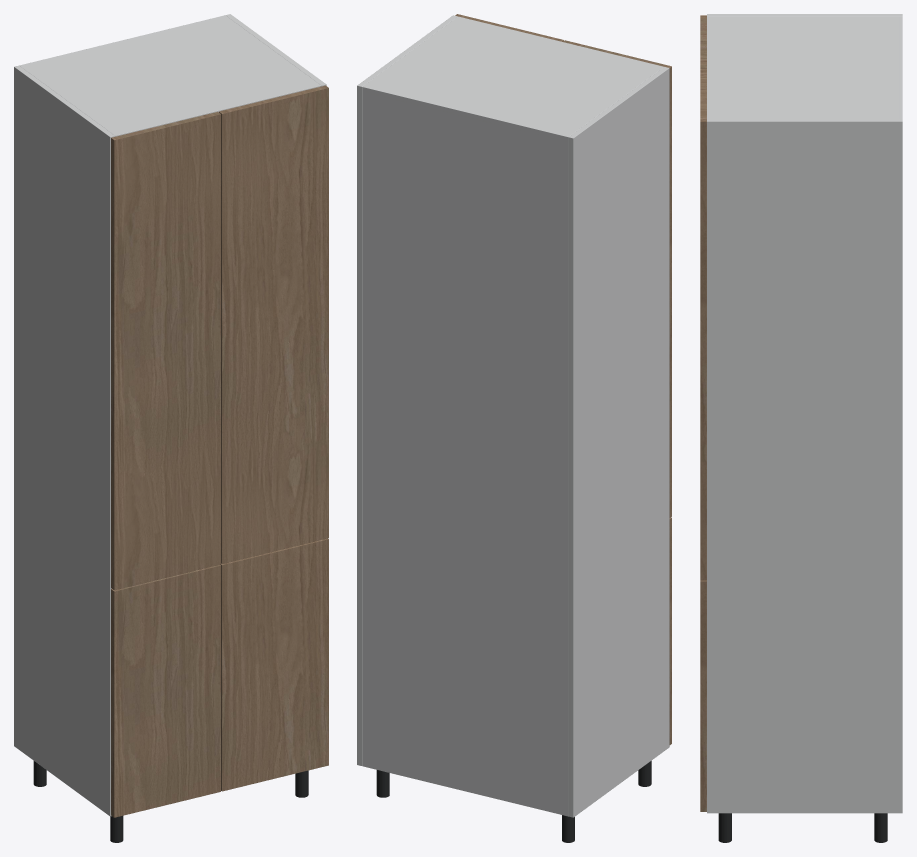
File: oppein-ply-mnw-pc3090.glb
The picture shows the model from 3 angles, left to right: view 1: azimuth 30°, elevation 25°; view 2: azimuth 150°, elevation 25°; view 3: azimuth 270°, elevation 25°; orthographic projection.
Parts seen in each view (by area): view 1: Cabinet side, Upper pantry door, Upper pantry door.001, Lower pantry door, Lower pantry door.001, Cabinet top; view 2: Cabinet back, Cabinet side, Cabinet top, Cabinet side.001, Upper pantry door, Lower pantry door; view 3: Cabinet side.001, Cabinet top, Upper pantry door.001, Lower pantry door.001, Cabinet side, Adjustable foot.002, Adjustable foot.003, Cabinet back.
Boxes of the visible parts, <box> form: Cabinet side: <box>14,65,115,816</box>; Upper pantry door: <box>111,112,220,590</box>; Upper pantry door.001: <box>219,85,328,563</box>; Lower pantry door: <box>111,564,220,817</box>; Lower pantry door.001: <box>220,538,328,791</box>; Cabinet top: <box>21,16,321,136</box>; Cabinet back: <box>362,85,569,816</box>; Cabinet side: <box>568,67,669,817</box>; Cabinet top: <box>362,16,663,141</box>; Cabinet side.001: <box>357,15,457,765</box>; Upper pantry door: <box>563,40,671,517</box>; Lower pantry door: <box>669,517,671,744</box>; Cabinet side.001: <box>707,119,902,813</box>; Cabinet top: <box>707,16,898,118</box>; Upper pantry door.001: <box>700,69,706,580</box>; Lower pantry door.001: <box>700,580,706,811</box>; Cabinet side: <box>707,14,902,16</box>; Adjustable foot.002: <box>874,813,887,842</box>; Adjustable foot.003: <box>718,813,731,842</box>; Cabinet back: <box>899,16,902,118</box>.
Size of the model in its own units: 0.762 by 2.4 by 0.6064.
Materials: 3 (1 with a texture image).
